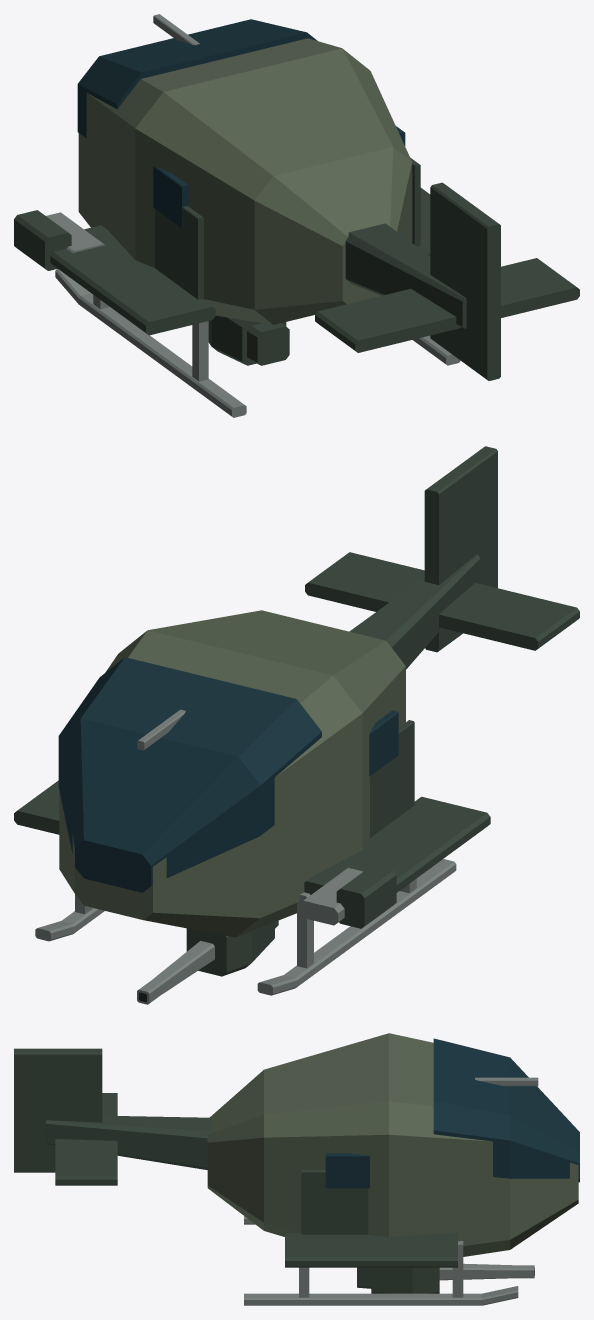
File: vehicle-3-Bk_2KfAj.glb
The picture shows the model from 3 angles, top to bottom: view 1: azimuth 30°, elevation 25°; view 2: azimuth 150°, elevation 25°; view 3: azimuth 270°, elevation 25°; orthographic projection. The views are drawn at different scales.
Visible parts, largest first — view 1: salient_vehicle_body_3, salient_vehicle_turret_3, salient_vehicle_elevation_3; view 2: salient_vehicle_body_3, salient_vehicle_elevation_3; view 3: salient_vehicle_body_3, salient_vehicle_elevation_3.
Boxes of the visible parts, x1,y1,x2,y2 form: salient_vehicle_body_3: [14, 14, 579, 417]; salient_vehicle_turret_3: [247, 323, 289, 365]; salient_vehicle_elevation_3: [208, 315, 286, 365]; salient_vehicle_body_3: [14, 446, 579, 995]; salient_vehicle_elevation_3: [137, 922, 274, 1004]; salient_vehicle_body_3: [14, 1033, 579, 1305]; salient_vehicle_elevation_3: [371, 1263, 534, 1293].
Size of the model in its own units: 3.3 by 2.76 by 5.89.
